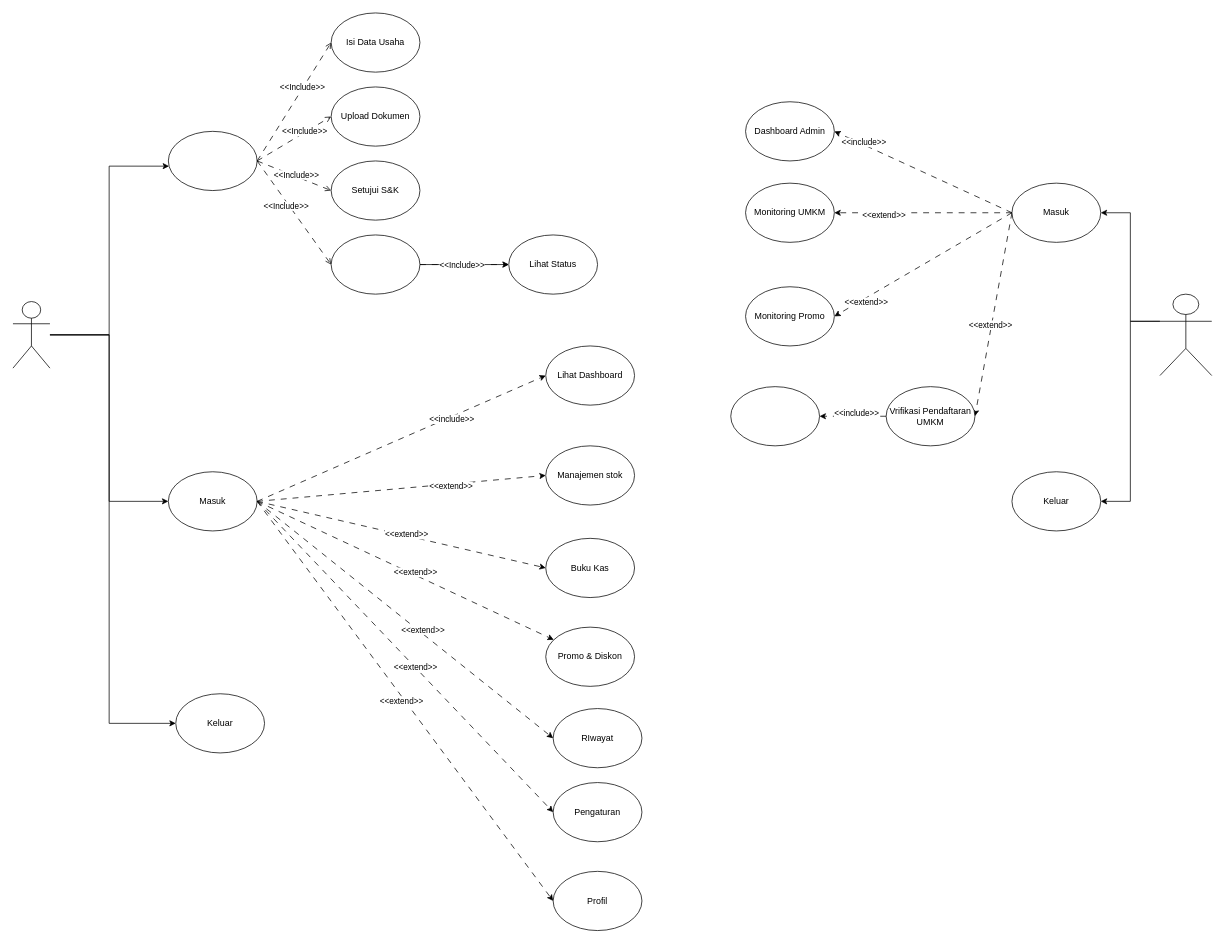
Some shapes in this 1225 by 944 pixel diagram are drawn without their labels. The centre of each missing label's shape, as x and y in pixels:
"Admin" belongs at (1185,334).
"Manajemen Kios" belongs at (775,416).
"Pilih Kios" belongs at (375,264).
"Registrasi" belongs at (212,161).
"UMKM" belongs at (31,334).
